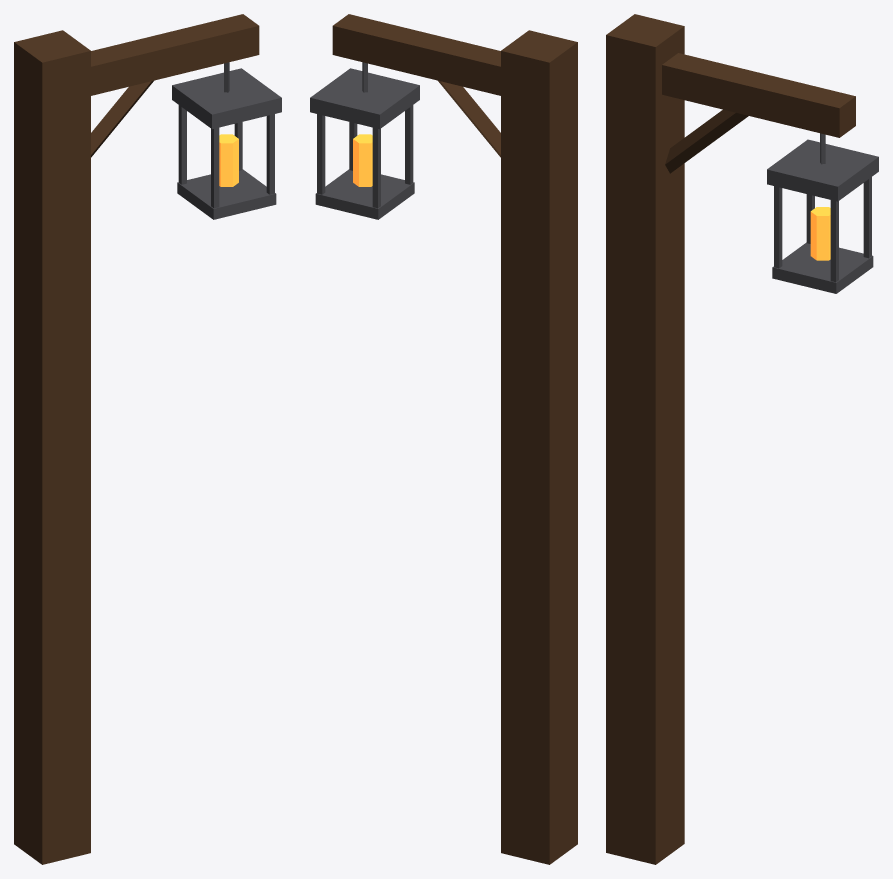
The model's file is lantern_post.glb.
3 renders of one model, left to right at view 1: azimuth 30°, elevation 25°; view 2: azimuth 150°, elevation 25°; view 3: azimuth 330°, elevation 25°, orthographic.
Parts seen in each view (by area): view 1: lantern_post, candle; view 2: lantern_post, candle; view 3: lantern_post, candle.
Part boxes in pixels (box(x1,y1,x2,y2)): lantern_post: box(14, 14, 281, 864); candle: box(219, 134, 238, 186); lantern_post: box(310, 14, 577, 864); candle: box(353, 134, 372, 186); lantern_post: box(606, 14, 878, 864); candle: box(810, 207, 830, 260).
Bounding box in the file's own units: 0.67 × 2.2 × 0.2.
